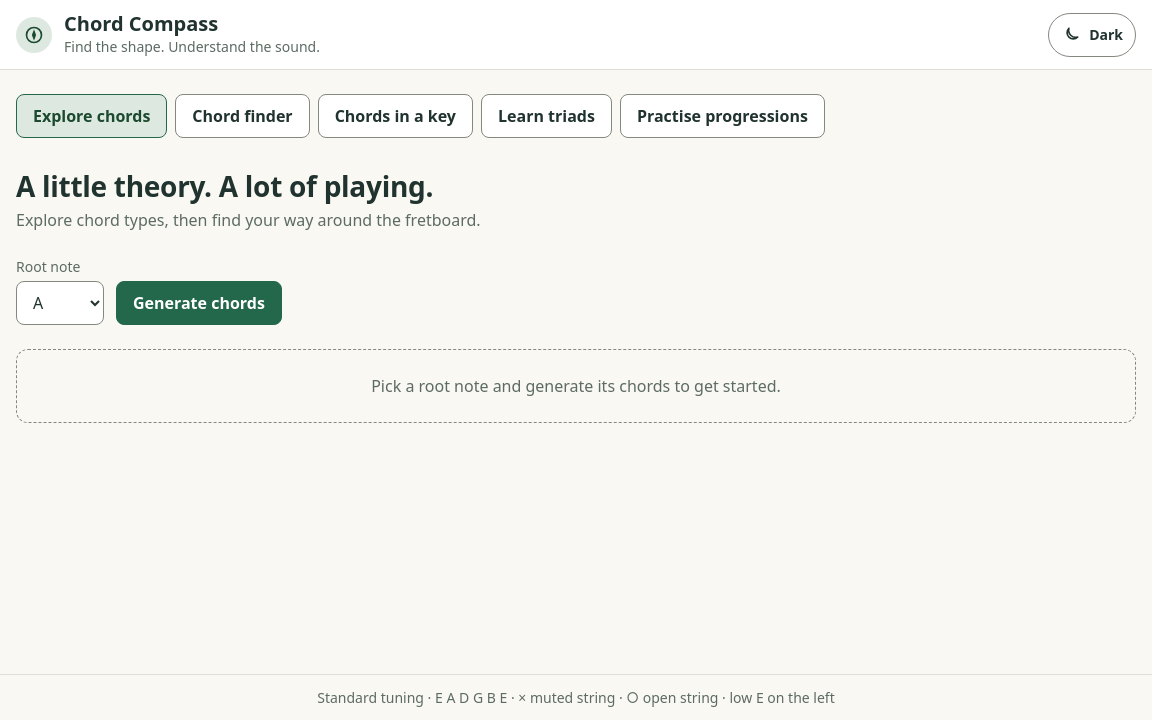
Scenario: learn triads › opens empty with A picked, and shows the triads on request
Click the tab "Learn triads".
click(546, 116)  # box left=481, top=94, right=612, bottom=138
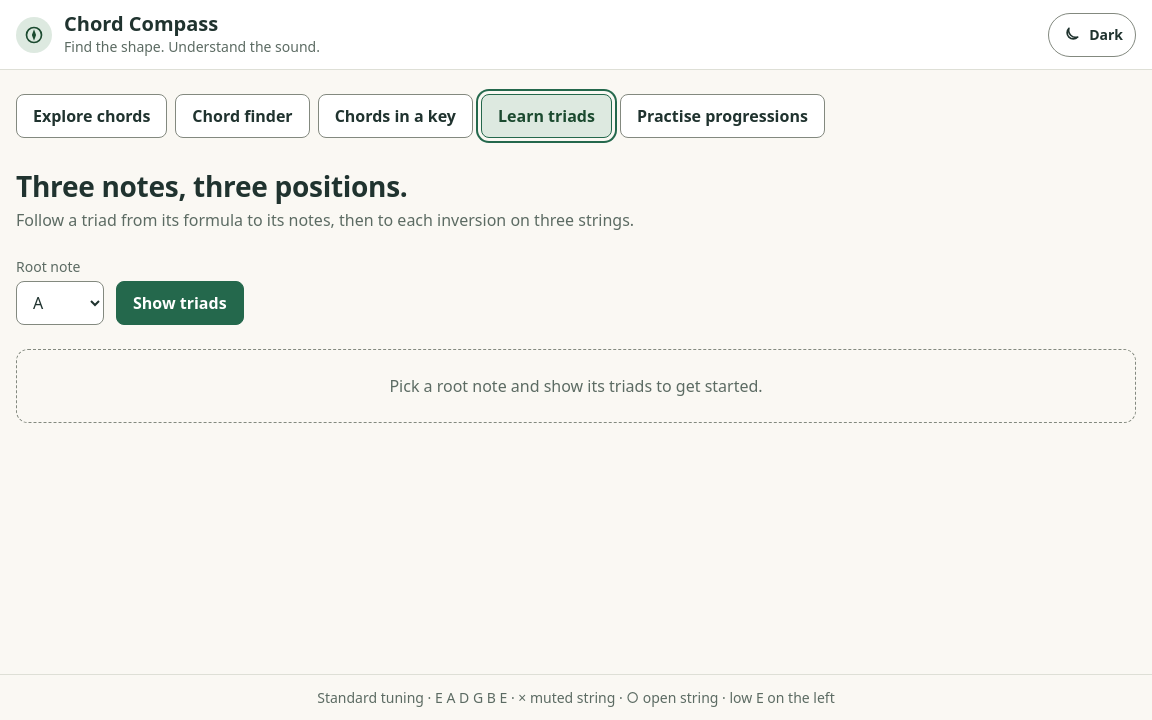
Expected: the dropdown labelled "Root note" shows "A", left=16, top=281, right=104, bottom=325
Expected: the text "Pick a root note and show its triads to get started." is shown, left=16, top=349, right=1136, bottom=423
Click the button "Show triads".
click(180, 303)  # box left=116, top=281, right=244, bottom=325
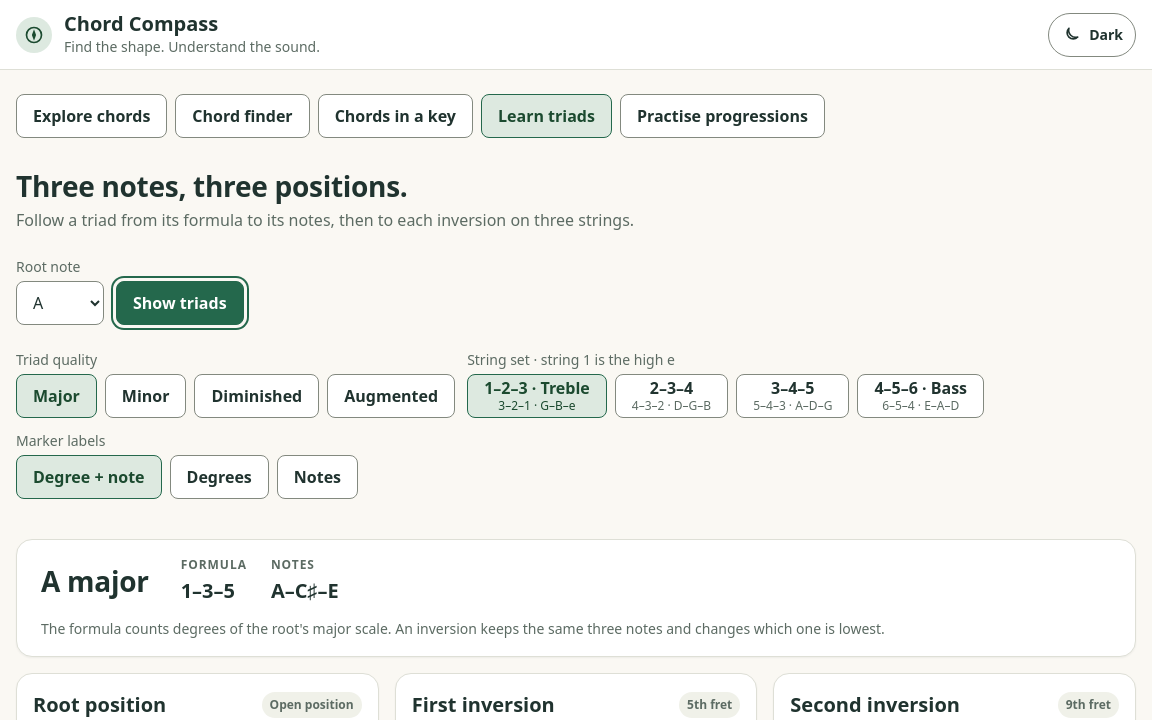
Expected: the heading "A major" is shown, left=41, top=560, right=149, bottom=602
Expected: the text "get started" is gone
Select "C" in the dropdown labelled "Root note" at (60, 303), box left=16, top=281, right=104, bottom=325
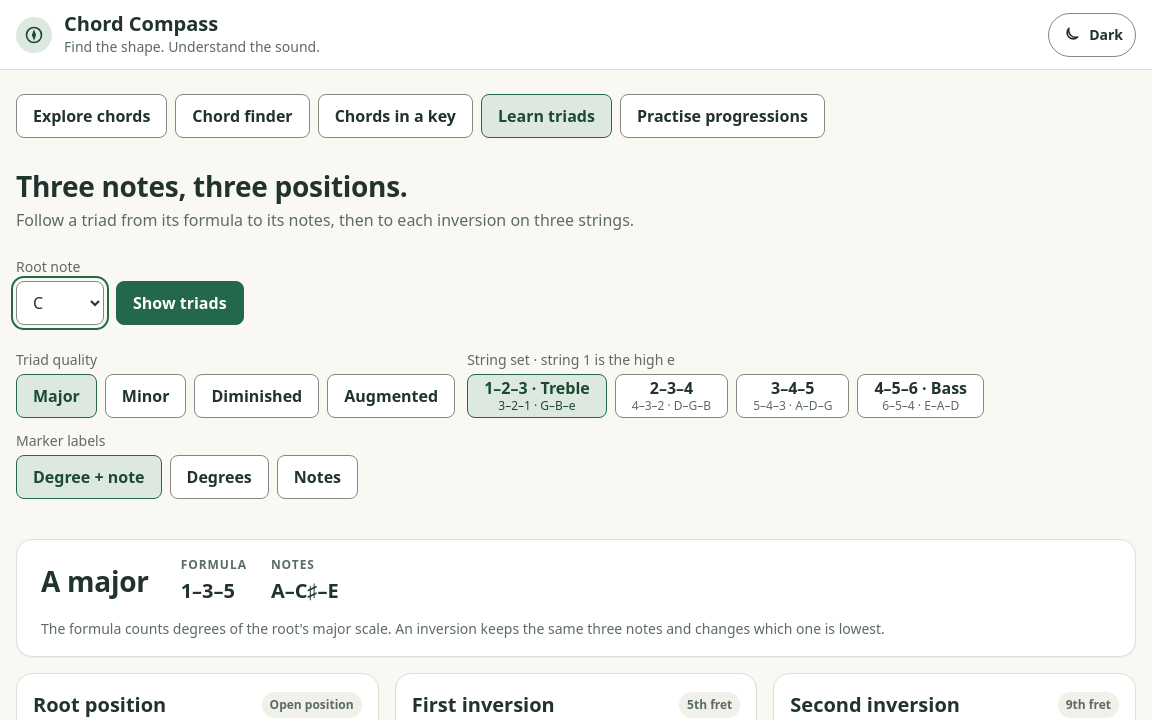
Expected: the heading "A major" is shown, left=41, top=560, right=149, bottom=602
Click the button "Show triads".
click(180, 303)  # box left=116, top=281, right=244, bottom=325
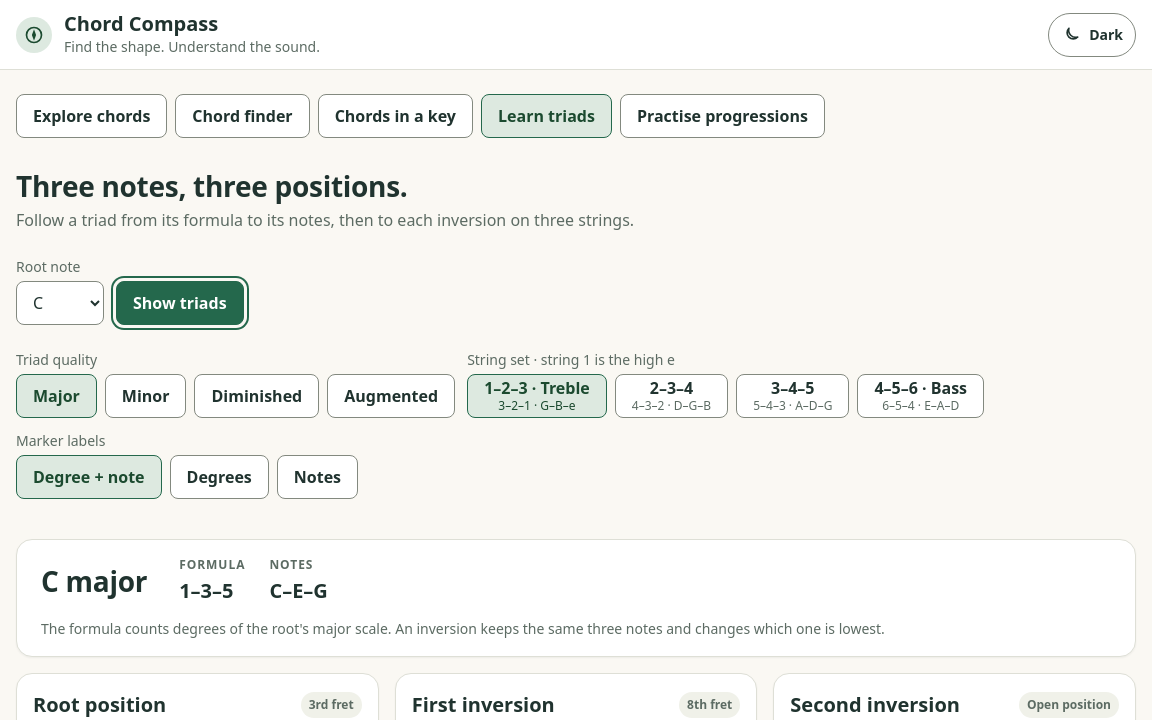
Expected: the heading "C major" is shown, left=41, top=560, right=147, bottom=602
